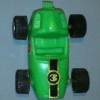verde: (15, 3, 85, 97)
